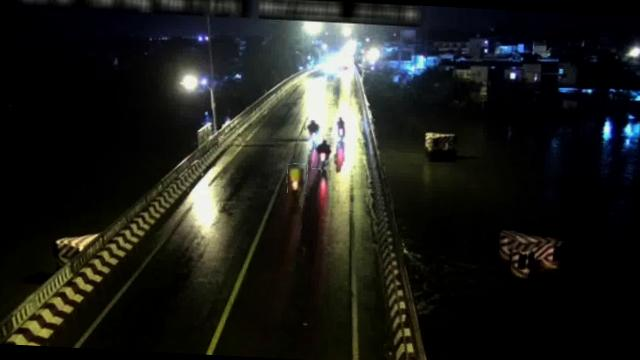Bike: (286, 162, 308, 194), (312, 138, 334, 170), (334, 116, 346, 140), (305, 119, 320, 138)
